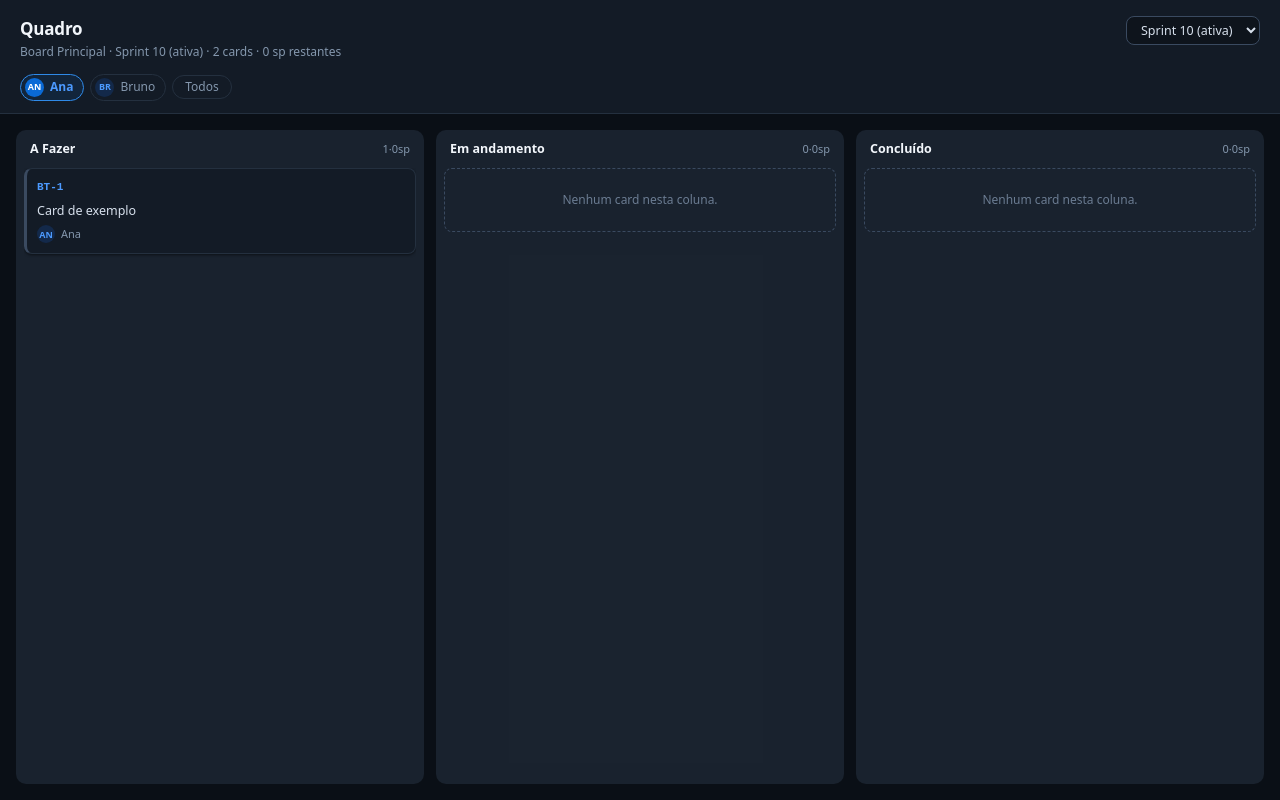
Board › filtro de responsável › com usuário autenticado que tem cards, filtra por padrão só os dele; alternar chip muda o filtro
Expected: the text "BT-1" is shown, [37,179,63,196]
Expected: the text "BT-2" is not shown
Click the button "Todos" at (202, 87), box [172,75,232,99]
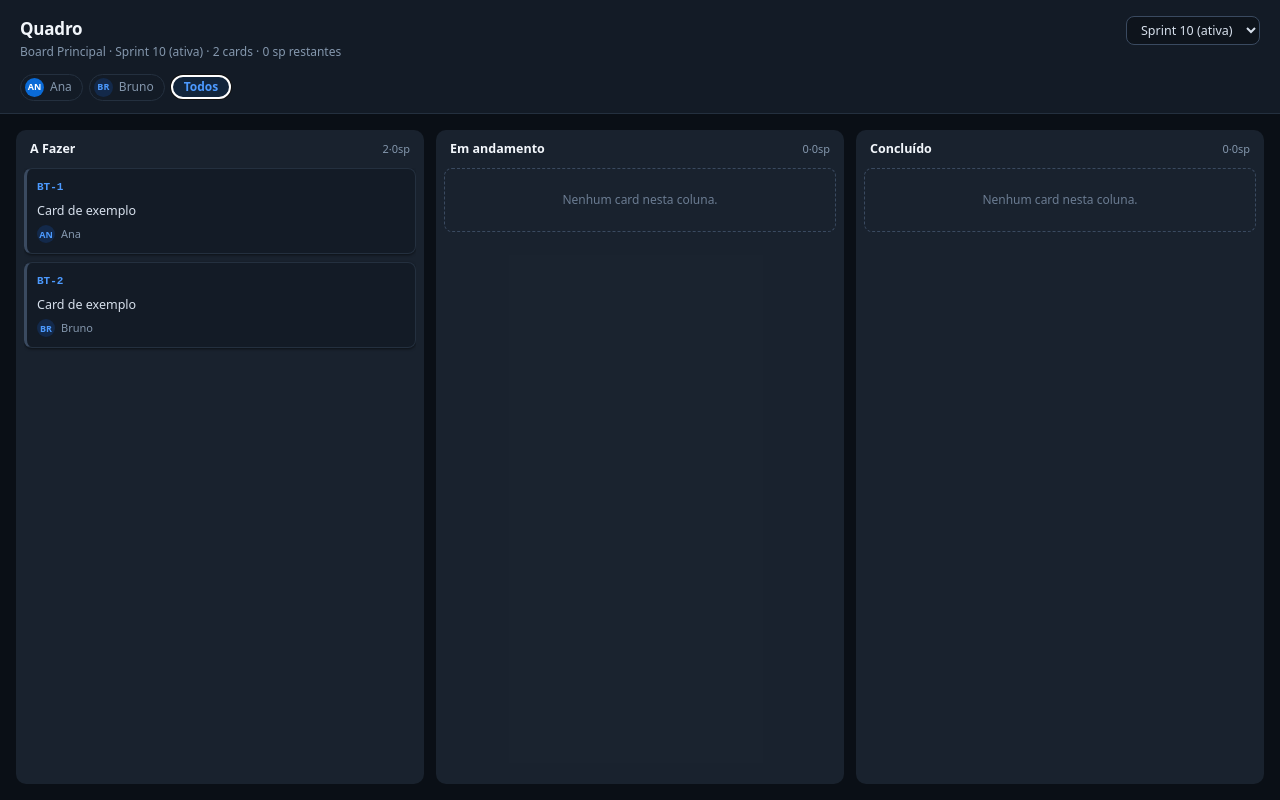
Result: the text "BT-2" is shown at [37,273,63,290]
Click the button titled "Ana (você)" at (51, 87), box [20,74,83,100]
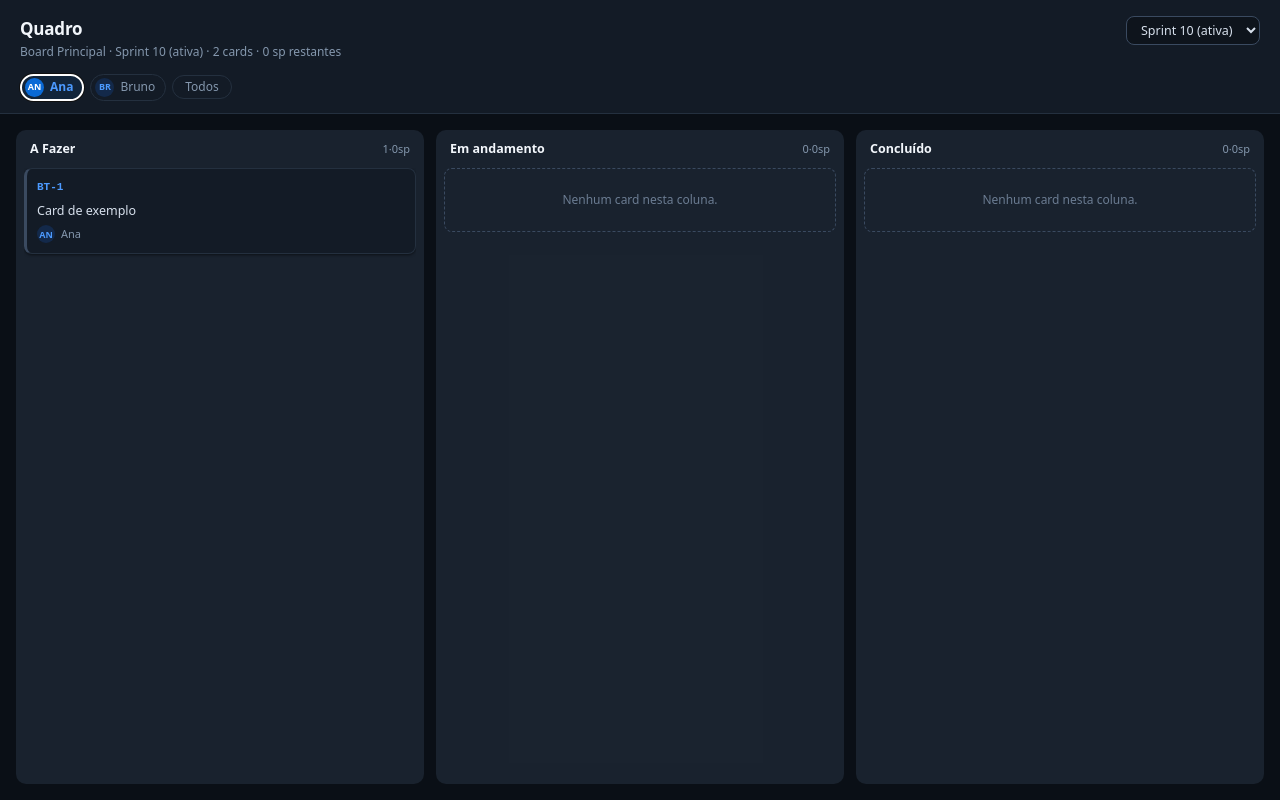
Expected: the text "BT-1" is shown, [37,179,63,196]
Result: the text "BT-2" is gone
